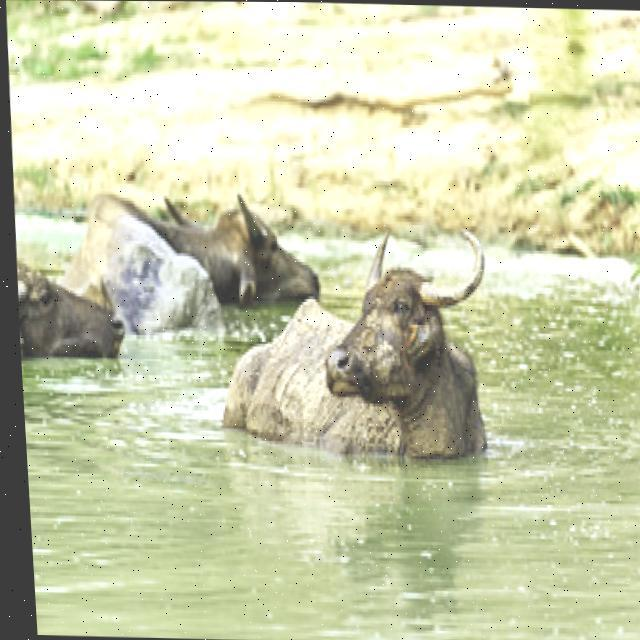Buffalo: (214, 225, 513, 472)
